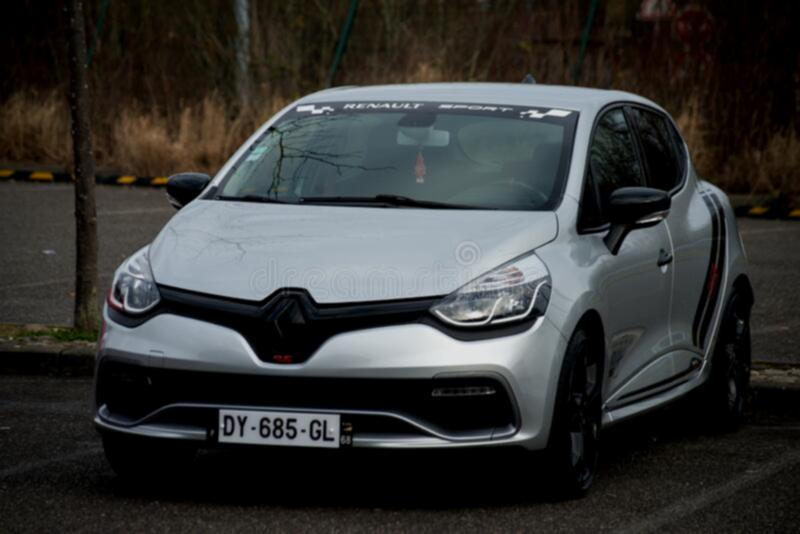Renault: (255, 285, 310, 365)
